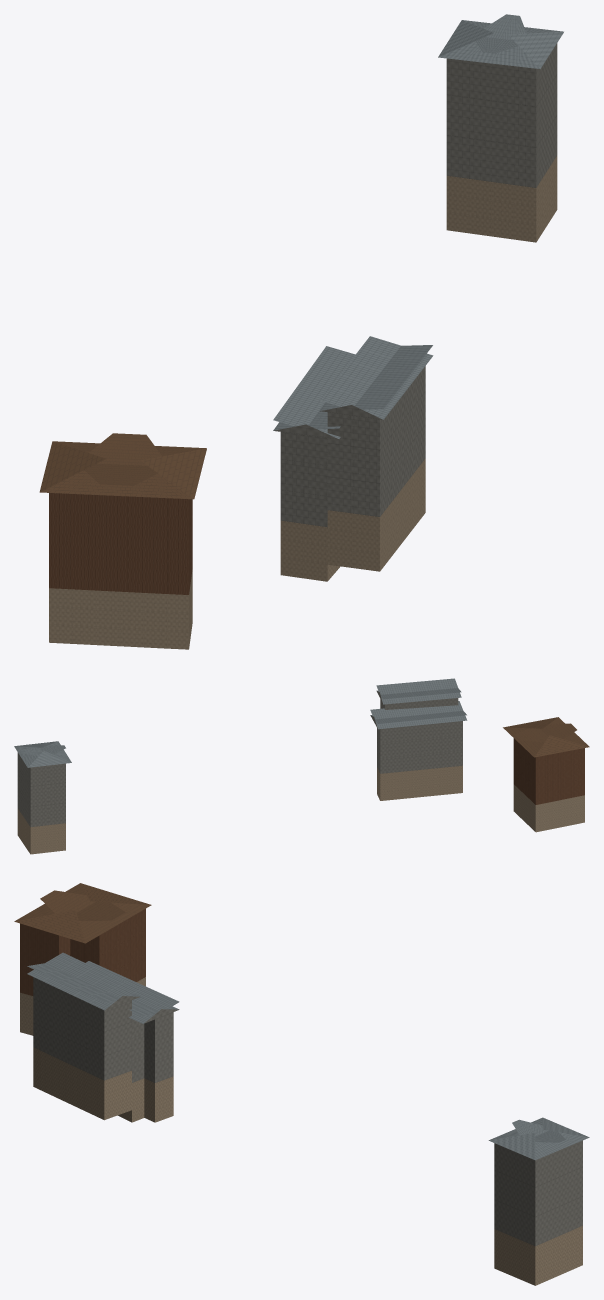
The model's file is bld_c17_28_385.gltf.
The picture shows the model from 3 angles, top to bottom: view 1: azimuth 30°, elevation 25°; view 2: azimuth 150°, elevation 25°; view 3: azimuth 270°, elevation 25°; orthographic projection. The views are drawn at different scales.
Visible parts, largest first — view 1: bld_c17_28_385; view 2: bld_c17_28_385; view 3: bld_c17_28_385.
Boxes of the visible parts, <box> form: bld_c17_28_385: <box>39,14,563,649</box>; bld_c17_28_385: <box>14,678,589,854</box>; bld_c17_28_385: <box>14,883,589,1285</box>.
Size of the model in its own units: 82.03 by 17.8 by 67.27.
6 materials, 6 textured.
